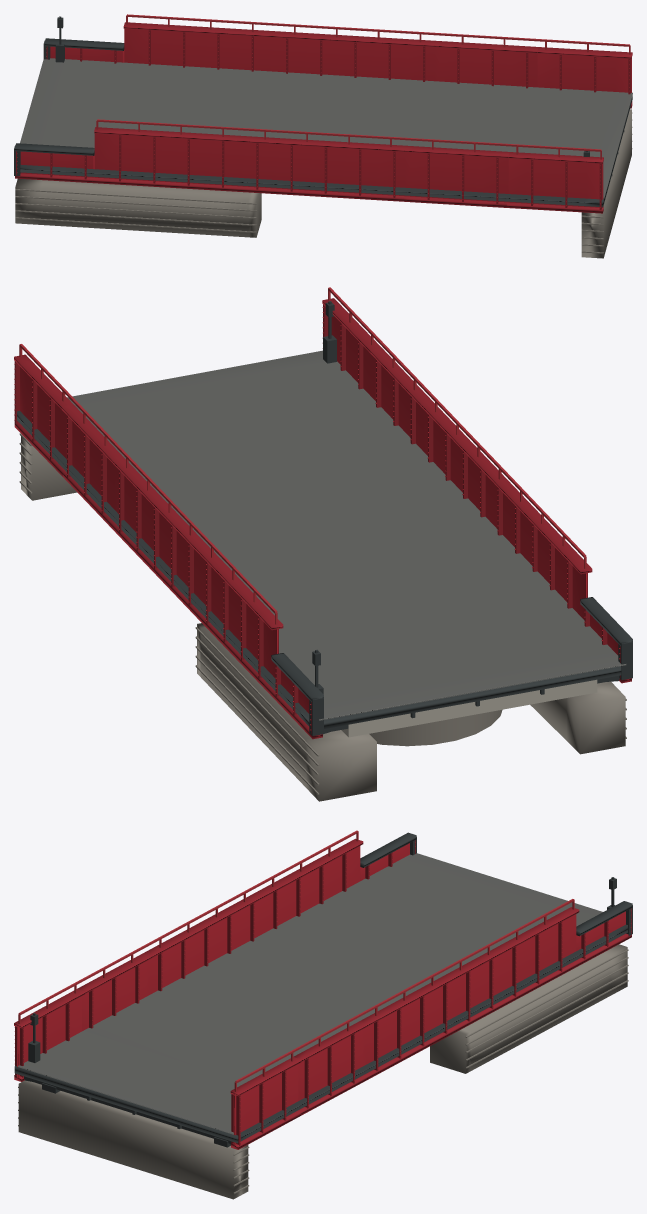
File: pont-de-la-fonderie-near.glb
3 views of the same model, one above another, from view 1: azimuth 30°, elevation 25°; view 2: azimuth 150°, elevation 25°; view 3: azimuth 270°, elevation 25° (orthographic). The views are drawn at different scales.
Visible parts, largest first — view 1: pont-de-la-fonderie-0-asphalt, pont-de-la-fonderie-0-steel, pont-de-la-fonderie-0-edge, pont-de-la-fonderie-0-stone, pont-de-la-fonderie-0-iron, pont-de-la-fonderie-0-rail; view 2: pont-de-la-fonderie-0-asphalt, pont-de-la-fonderie-0-edge, pont-de-la-fonderie-0-stone, pont-de-la-fonderie-0-steel, pont-de-la-fonderie-0-iron, pont-de-la-fonderie-0-rail, pont-de-la-fonderie-0-concrete; view 3: pont-de-la-fonderie-0-asphalt, pont-de-la-fonderie-0-steel, pont-de-la-fonderie-0-stone, pont-de-la-fonderie-0-edge, pont-de-la-fonderie-0-iron, pont-de-la-fonderie-0-rail.
Boxes of the visible parts, x1,y1,x2,y2 form: pont-de-la-fonderie-0-asphalt: (20,58,632,198); pont-de-la-fonderie-0-steel: (16,28,631,207); pont-de-la-fonderie-0-edge: (15,22,632,213); pont-de-la-fonderie-0-stone: (15,109,632,258); pont-de-la-fonderie-0-iron: (14,16,632,207); pont-de-la-fonderie-0-rail: (96,14,630,159); pont-de-la-fonderie-0-asphalt: (67,350,626,720); pont-de-la-fonderie-0-edge: (14,298,631,739); pont-de-la-fonderie-0-stone: (19,433,626,801); pont-de-la-fonderie-0-steel: (14,307,620,730); pont-de-la-fonderie-0-iron: (17,301,632,735); pont-de-la-fonderie-0-rail: (19,287,586,624); pont-de-la-fonderie-0-concrete: (341,679,597,737); pont-de-la-fonderie-0-asphalt: (18,853,602,1134); pont-de-la-fonderie-0-steel: (14,842,631,1145); pont-de-la-fonderie-0-stone: (18,944,628,1199); pont-de-la-fonderie-0-edge: (14,838,631,1149); pont-de-la-fonderie-0-iron: (14,832,632,1147); pont-de-la-fonderie-0-rail: (18,830,574,1091).
Size of the model in its own units: 23.84 by 4.61 by 21.97.
